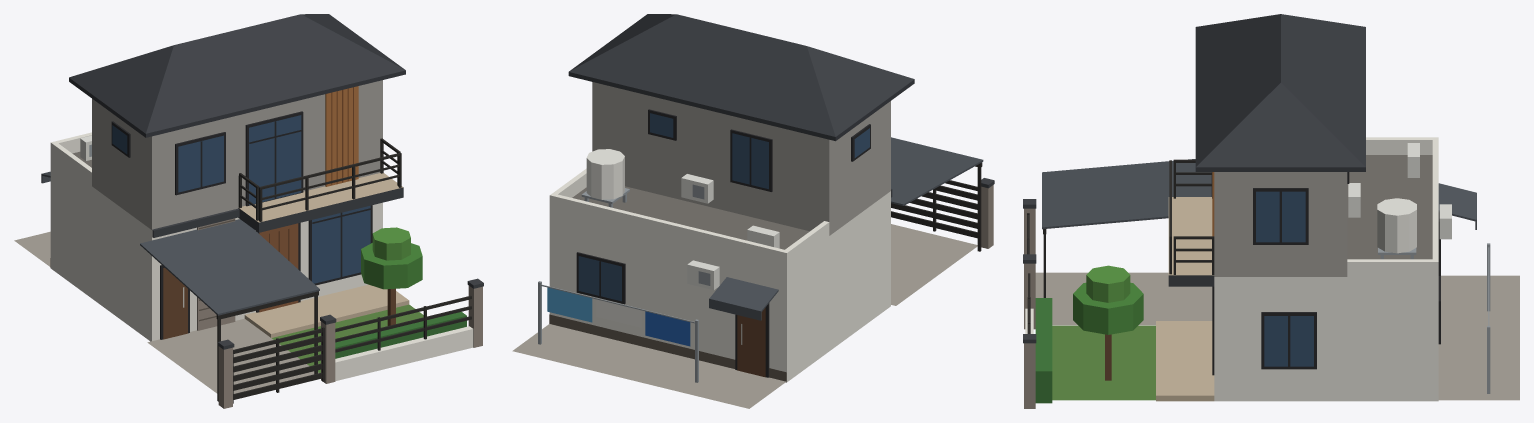
Rendered from rumah2_02.glb.
3 views of the same model, side by side, from view 1: azimuth 30°, elevation 25°; view 2: azimuth 150°, elevation 25°; view 3: azimuth 270°, elevation 25° (orthographic). The views are drawn at different scales.
Visible parts, largest first — view 1: rumah2_02; view 2: rumah2_02; view 3: rumah2_02.
Part boxes in pixels (x1,y1,x2,y2): rumah2_02: [14, 14, 483, 408]; rumah2_02: [512, 14, 994, 408]; rumah2_02: [1023, 14, 1519, 408].
Size of the model in its own units: 8 by 7.72 by 11.95.
